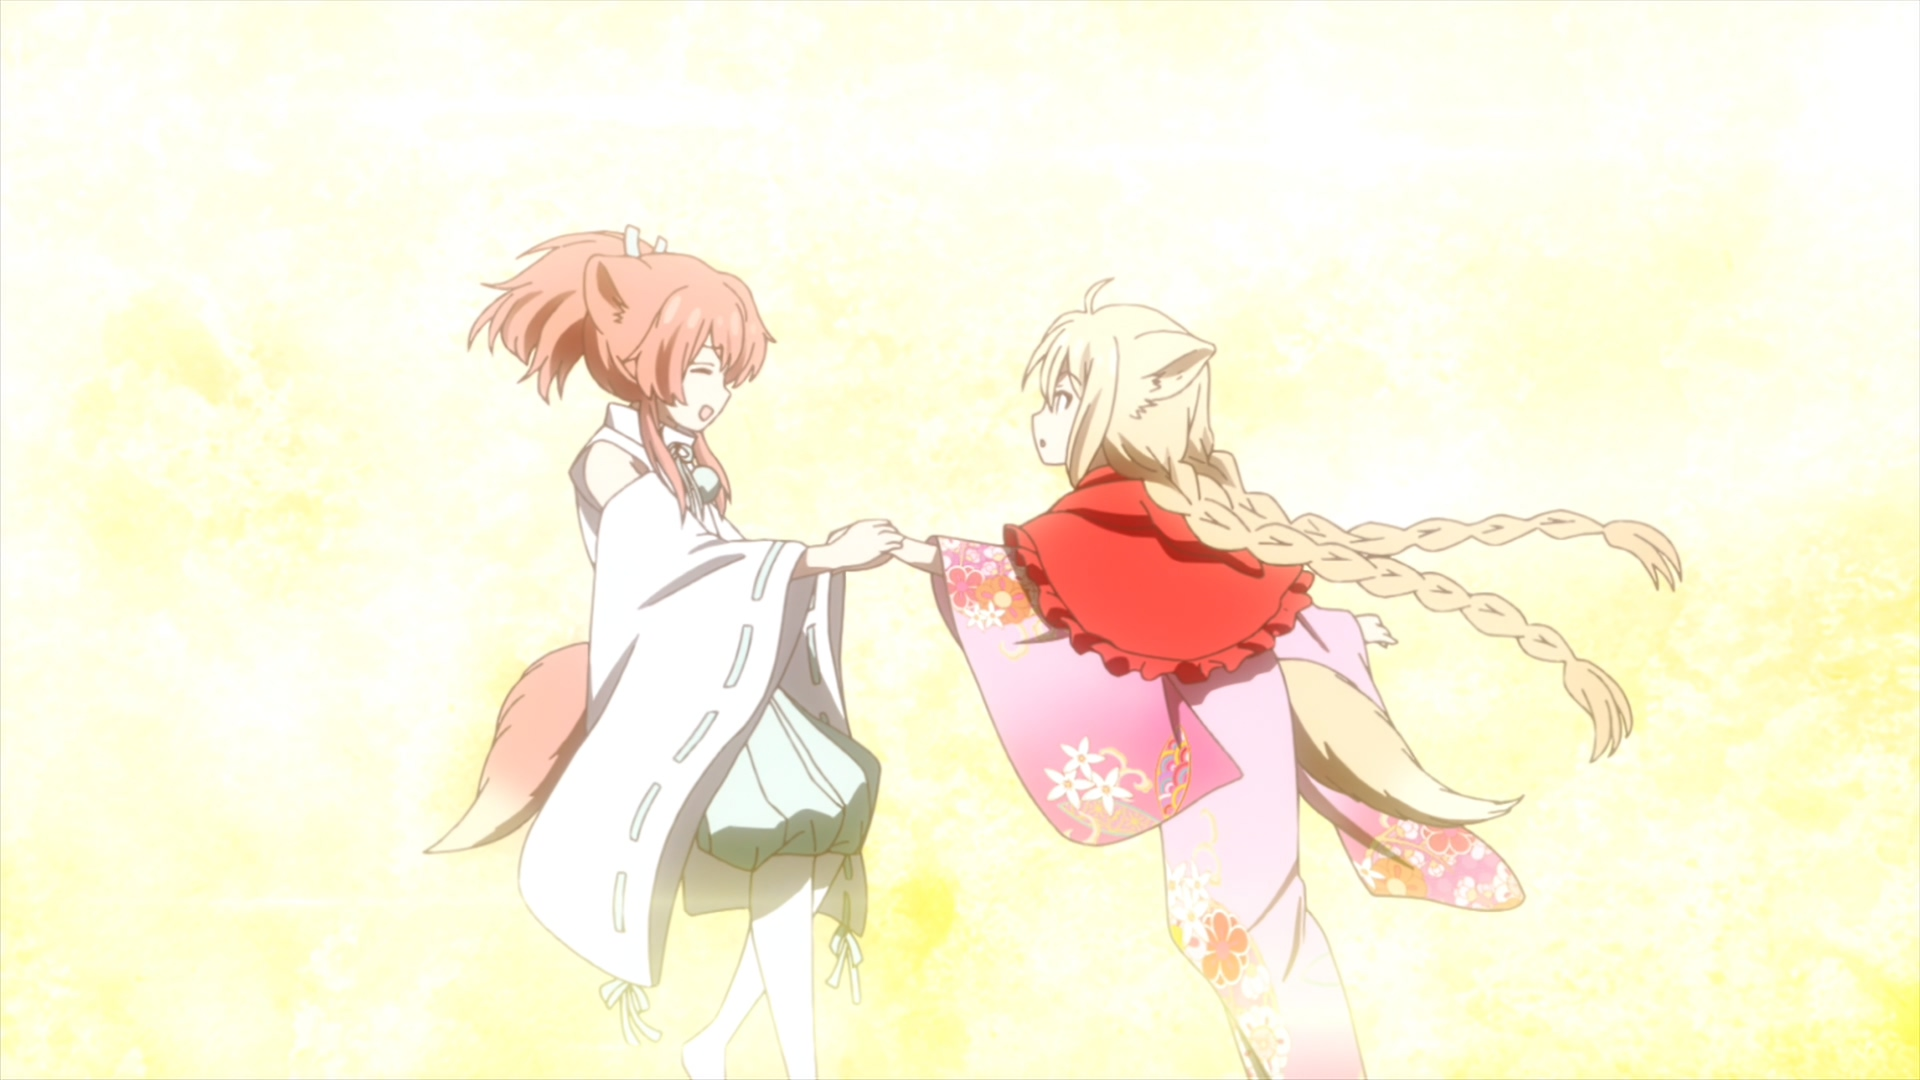柚: (891, 278, 1685, 1080)
椿: (426, 224, 901, 1080)
